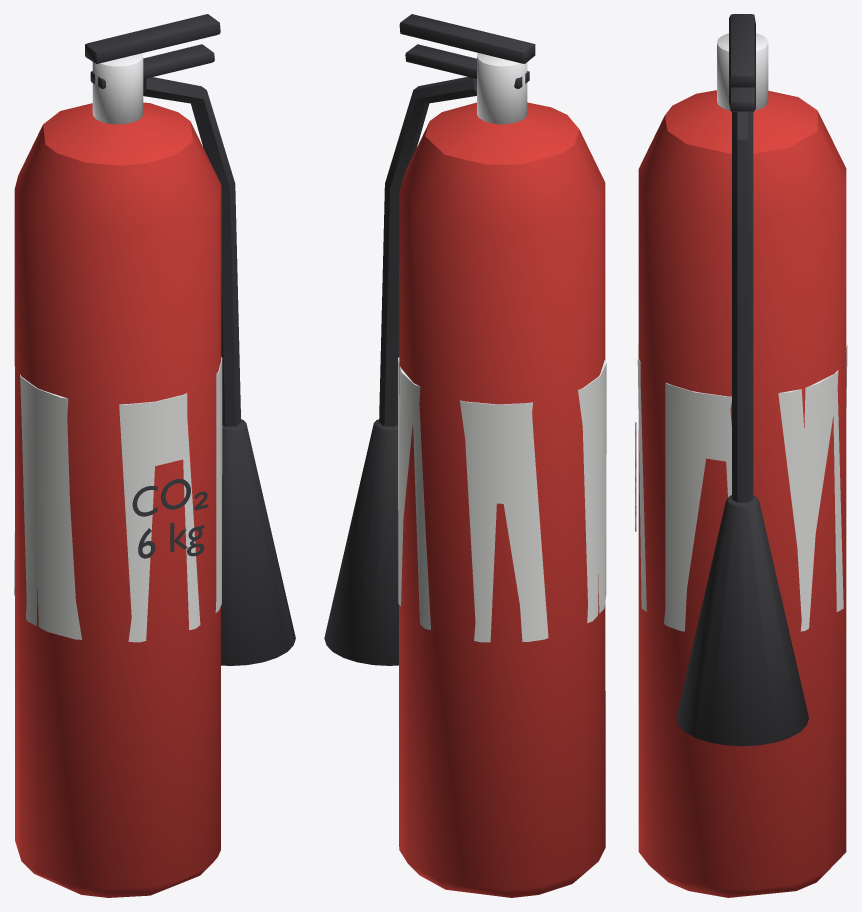
Rendered from HID-INC-006_lod1.glb.
3 views of the same model, side by side, from view 1: azimuth 30°, elevation 25°; view 2: azimuth 150°, elevation 25°; view 3: azimuth 270°, elevation 25° (orthographic).
Visible parts, largest first — view 1: HID-INC-006_cilindro, HID-INC-006_rotulo, HID-INC-006_difusor, HID-INC-006_mangueira, HID-INC-006_valvula, HID-INC-006_gatilho, HID-INC-006_texto, HID-INC-006_alca; view 2: HID-INC-006_cilindro, HID-INC-006_rotulo, HID-INC-006_difusor, HID-INC-006_mangueira, HID-INC-006_valvula, HID-INC-006_gatilho, HID-INC-006_alca; view 3: HID-INC-006_cilindro, HID-INC-006_difusor, HID-INC-006_rotulo, HID-INC-006_mangueira, HID-INC-006_gatilho, HID-INC-006_valvula, HID-INC-006_alca.
Boxes of the visible parts, bbox=[...] form: HID-INC-006_cilindro: bbox=[14, 102, 221, 897]; HID-INC-006_rotulo: bbox=[14, 357, 222, 642]; HID-INC-006_difusor: bbox=[221, 419, 295, 665]; HID-INC-006_mangueira: bbox=[143, 77, 240, 426]; HID-INC-006_valvula: bbox=[92, 53, 143, 124]; HID-INC-006_gatilho: bbox=[85, 14, 220, 63]; HID-INC-006_texto: bbox=[132, 479, 208, 558]; HID-INC-006_alca: bbox=[90, 44, 214, 88]; HID-INC-006_cilindro: bbox=[399, 102, 605, 897]; HID-INC-006_rotulo: bbox=[398, 357, 606, 642]; HID-INC-006_difusor: bbox=[324, 419, 398, 665]; HID-INC-006_mangueira: bbox=[379, 77, 476, 426]; HID-INC-006_valvula: bbox=[477, 53, 527, 124]; HID-INC-006_gatilho: bbox=[399, 14, 535, 63]; HID-INC-006_alca: bbox=[405, 44, 529, 88]; HID-INC-006_cilindro: bbox=[638, 90, 846, 897]; HID-INC-006_difusor: bbox=[676, 495, 808, 746]; HID-INC-006_rotulo: bbox=[637, 344, 847, 631]; HID-INC-006_mangueira: bbox=[732, 111, 753, 502]; HID-INC-006_gatilho: bbox=[729, 14, 755, 87]; HID-INC-006_valvula: bbox=[717, 33, 768, 110]; HID-INC-006_alca: bbox=[729, 77, 755, 111].
Size of the model in its own units: 0.2261 by 0.682 by 0.1573.
